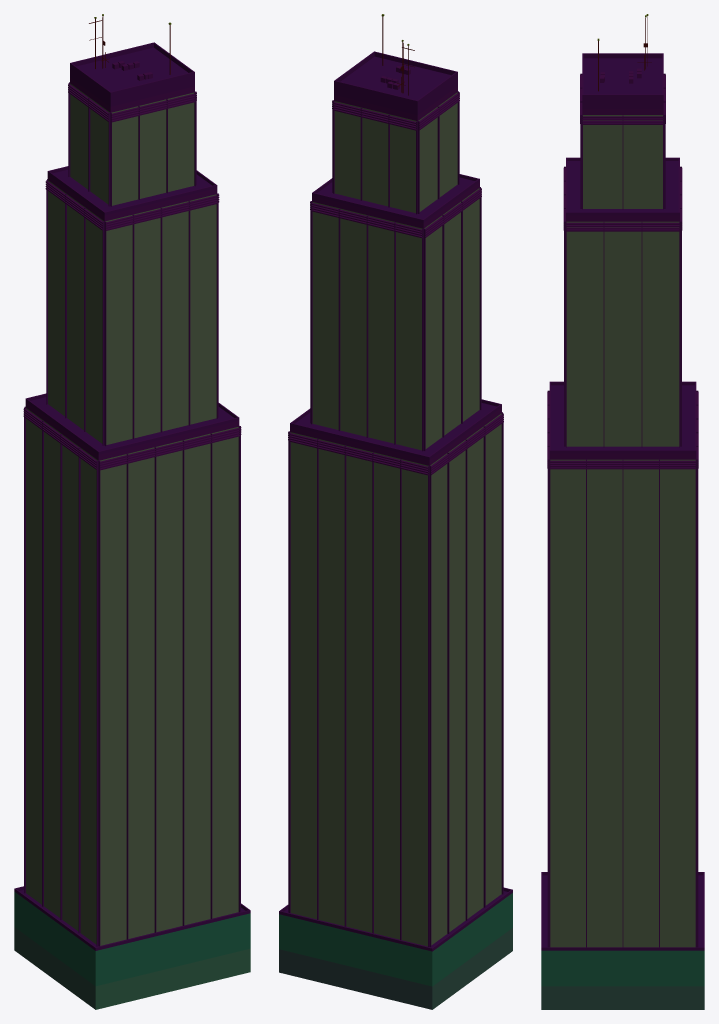
Rendered from tower_a.glb.
3 renders of one model, left to right at view 1: azimuth 30°, elevation 25°; view 2: azimuth 150°, elevation 25°; view 3: azimuth 270°, elevation 25°, orthographic.
Parts seen in each view (by area): view 1: tower_a; view 2: tower_a; view 3: tower_a.
Boxes of the visible parts, x1,y1,x2,y2 form: tower_a: (14, 14, 250, 1009); tower_a: (279, 14, 512, 1009); tower_a: (541, 14, 704, 1009).
Bounding box in the file's own units: 32.99 × 192 × 29.99.
